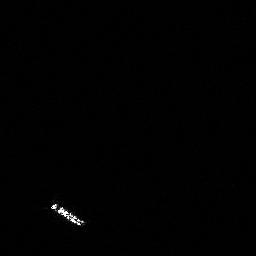ship: (48, 200, 90, 231)
